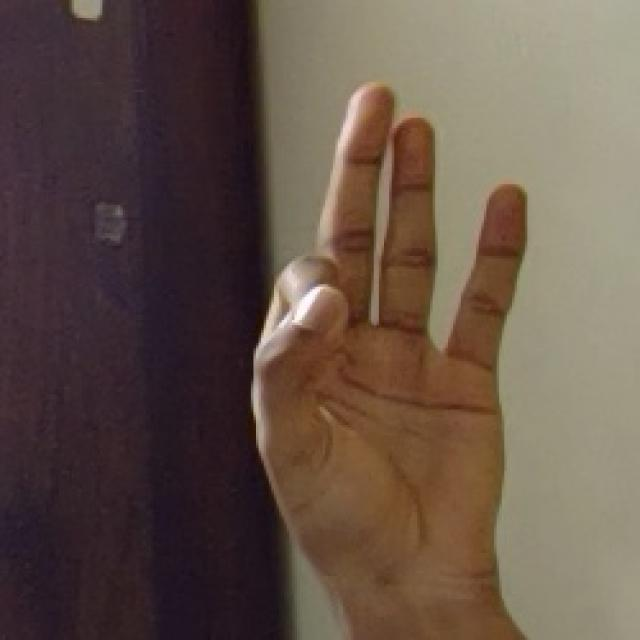Numeric-9: (246, 77, 530, 593)
